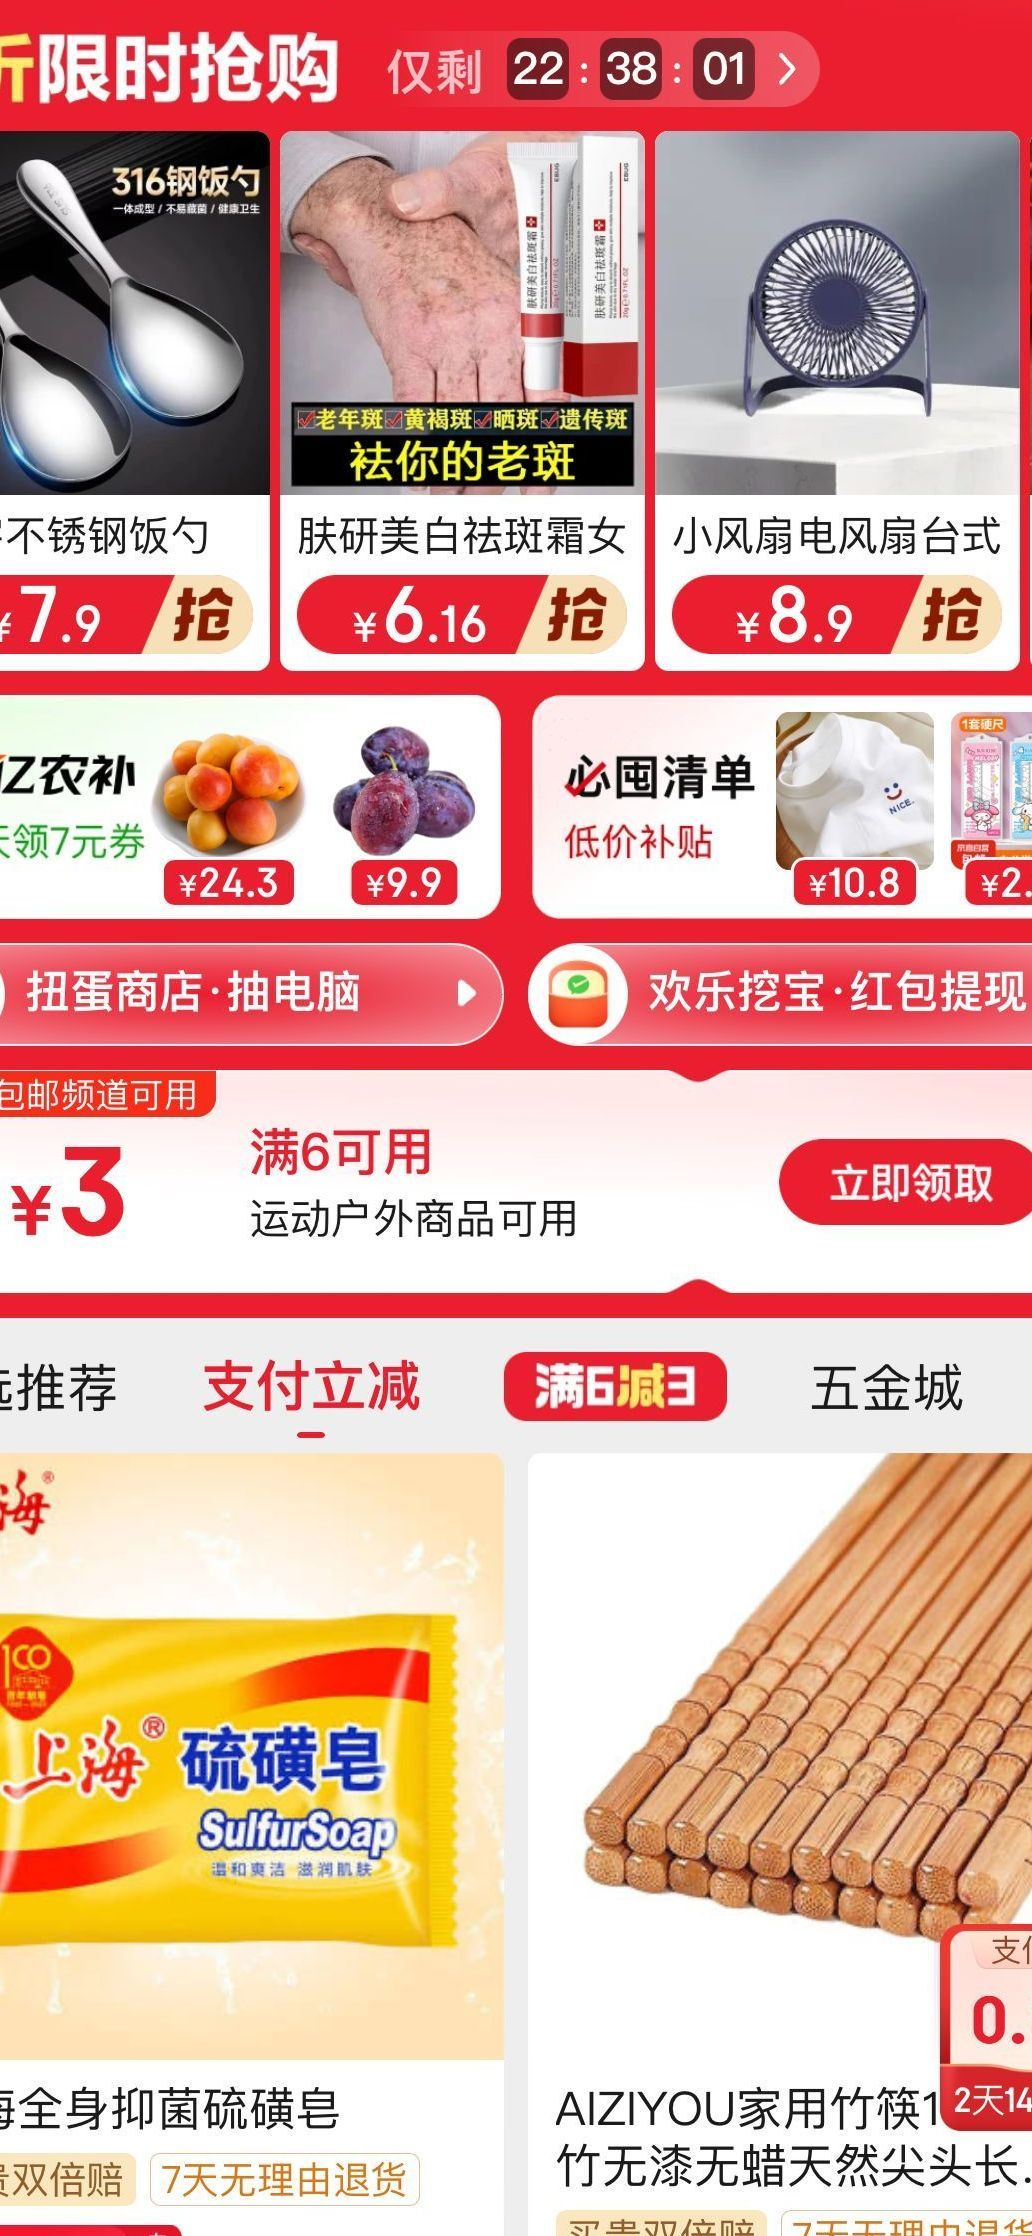banner: (1, 1050, 1032, 1311)
item: (1, 1430, 517, 2236), (529, 1435, 1032, 2230)
seckill: (6, 113, 1029, 1040)
